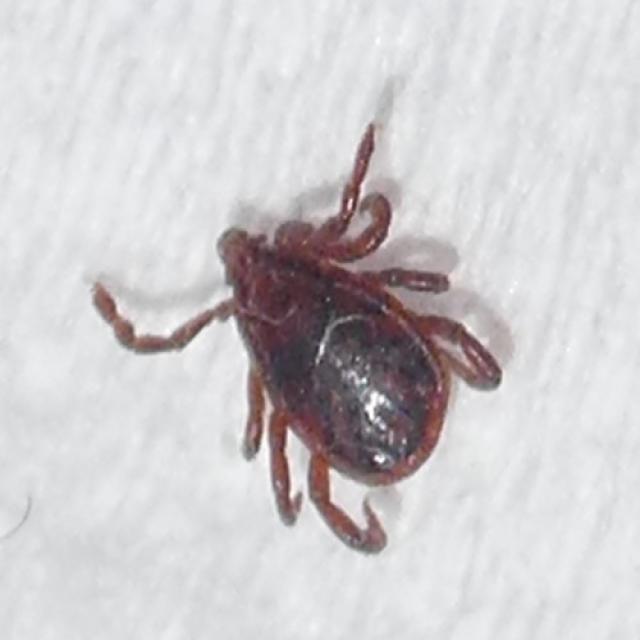Rhipicephalus Sanguineus-M: (90, 121, 504, 554)
